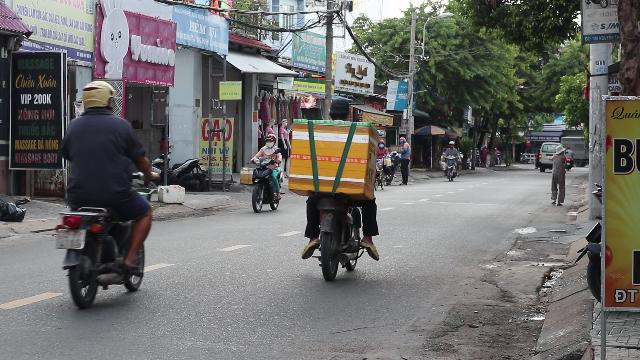helmet: (78, 80, 115, 112), (264, 133, 276, 147)
licenseplate: (54, 230, 84, 248)
motorcyclist: (50, 79, 156, 310), (287, 94, 383, 282), (245, 132, 285, 214)
nohelmet: (328, 96, 350, 120)
